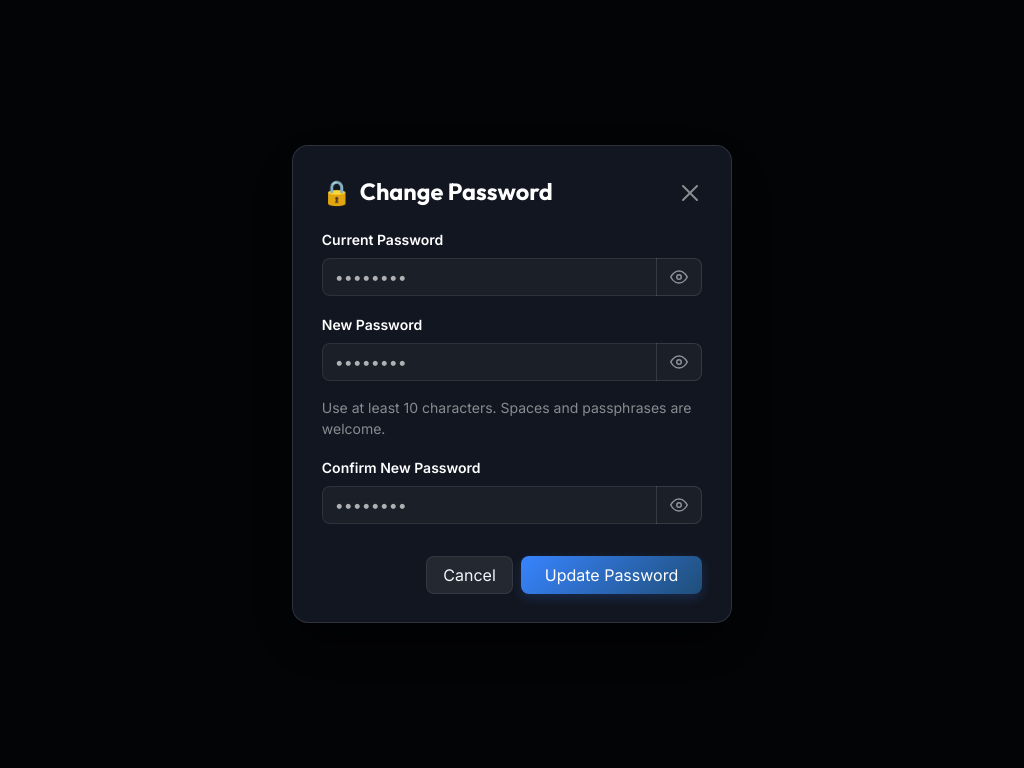
Test case: change-password allows a short current password and displays the server's expected error
This screenshot has width=1024, height=768.
Type "legacy" into the password field labelled "Current Password".
click(489, 276); type("legacy")  # box [322, 258, 657, 296]
Type "123456789" into the password field labelled "New Password".
click(489, 362); type("123456789")  # box [322, 342, 657, 380]
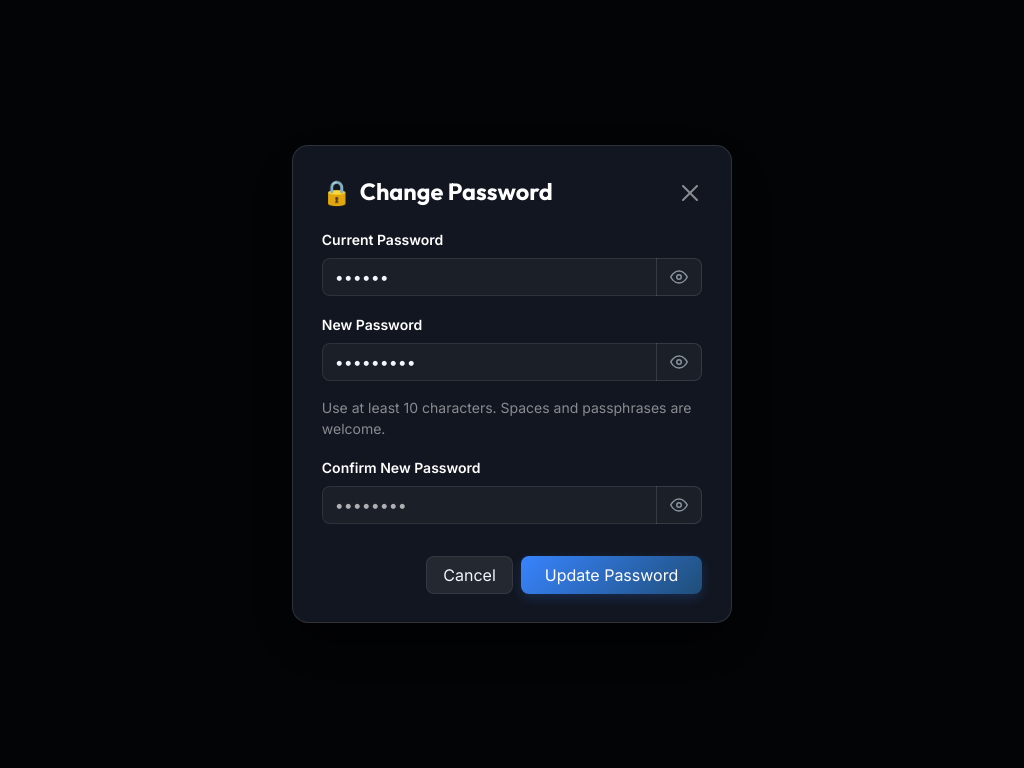
Type "123456789" into the password field labelled "Confirm New Password".
click(489, 504); type("123456789")  # box [322, 486, 657, 524]
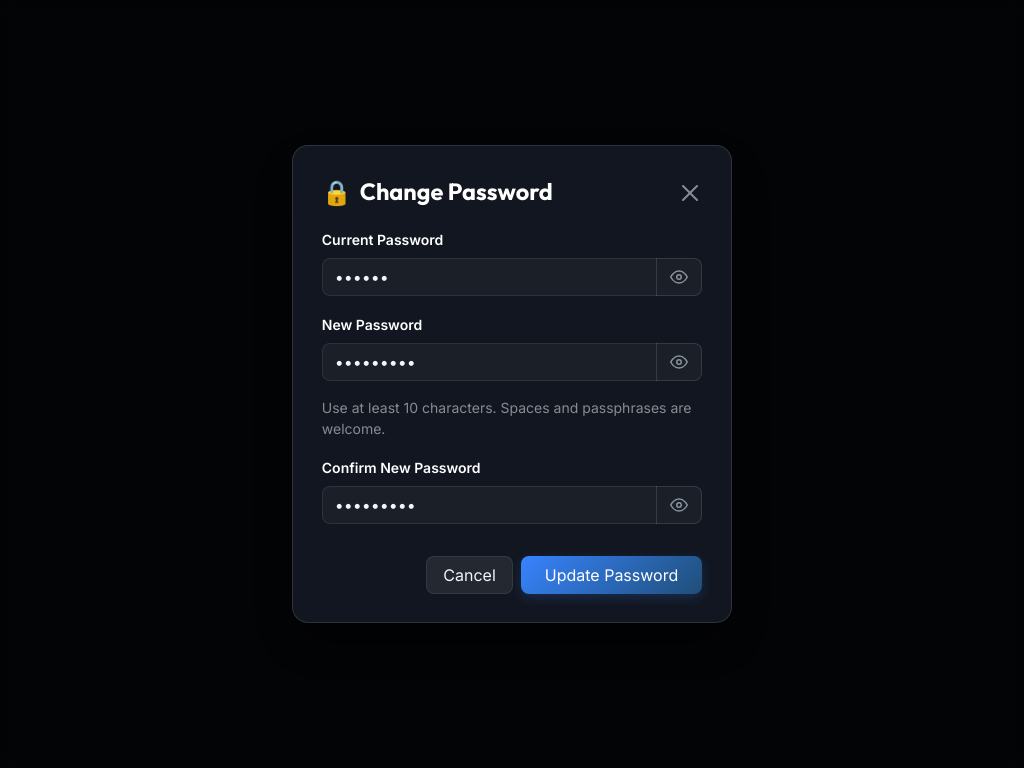
Submit the form named "Update Password", box [322, 226, 702, 594]
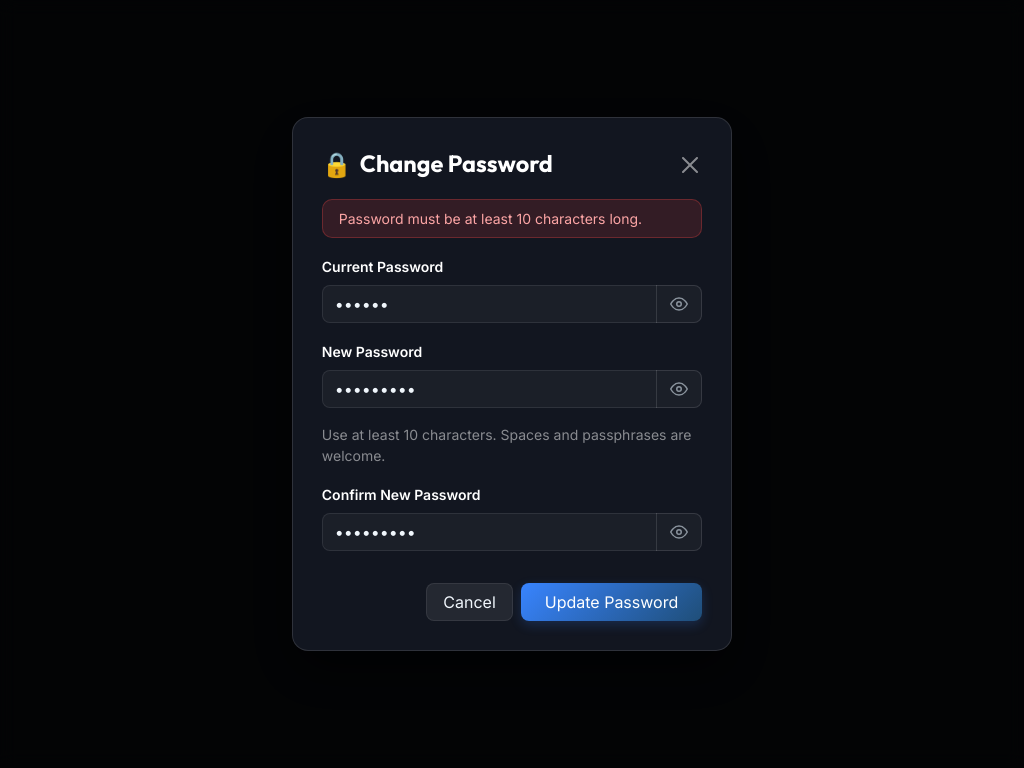
Expected: the text "Password must be at least 10 characters long." is shown, [322, 199, 702, 238]
Type "new-pass10" into the password field labelled "New Password".
click(489, 389); type("new-pass10")  # box [322, 370, 657, 408]
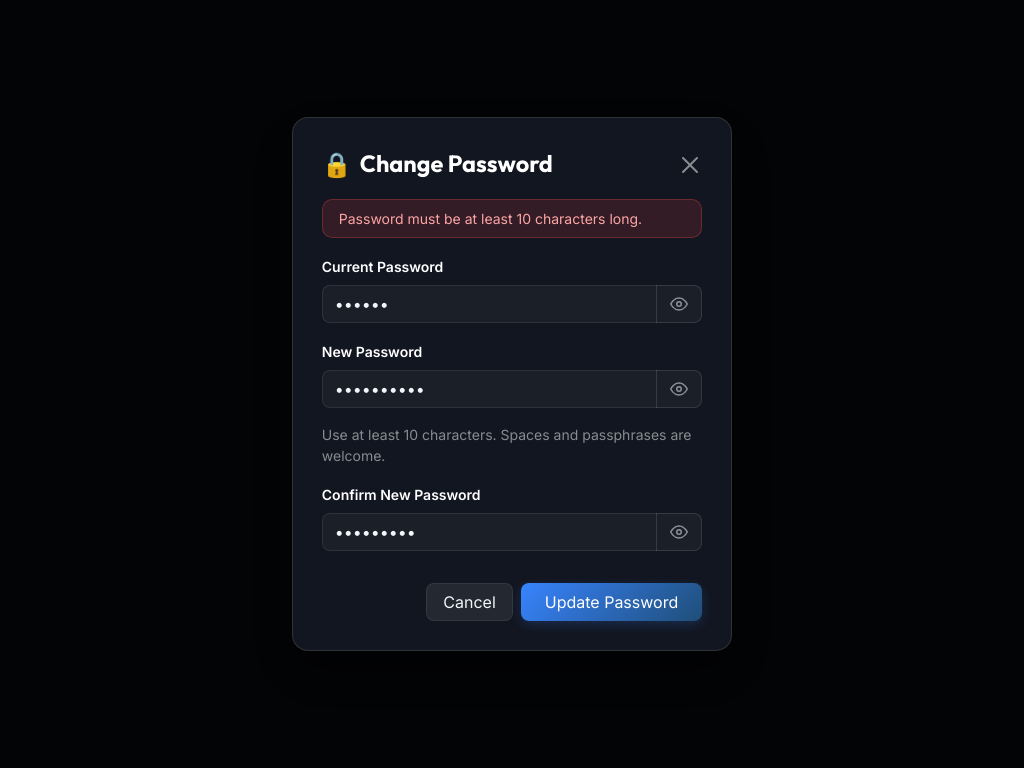
Type "new-pass10" into the password field labelled "Confirm New Password".
click(489, 532); type("new-pass10")  # box [322, 513, 657, 551]
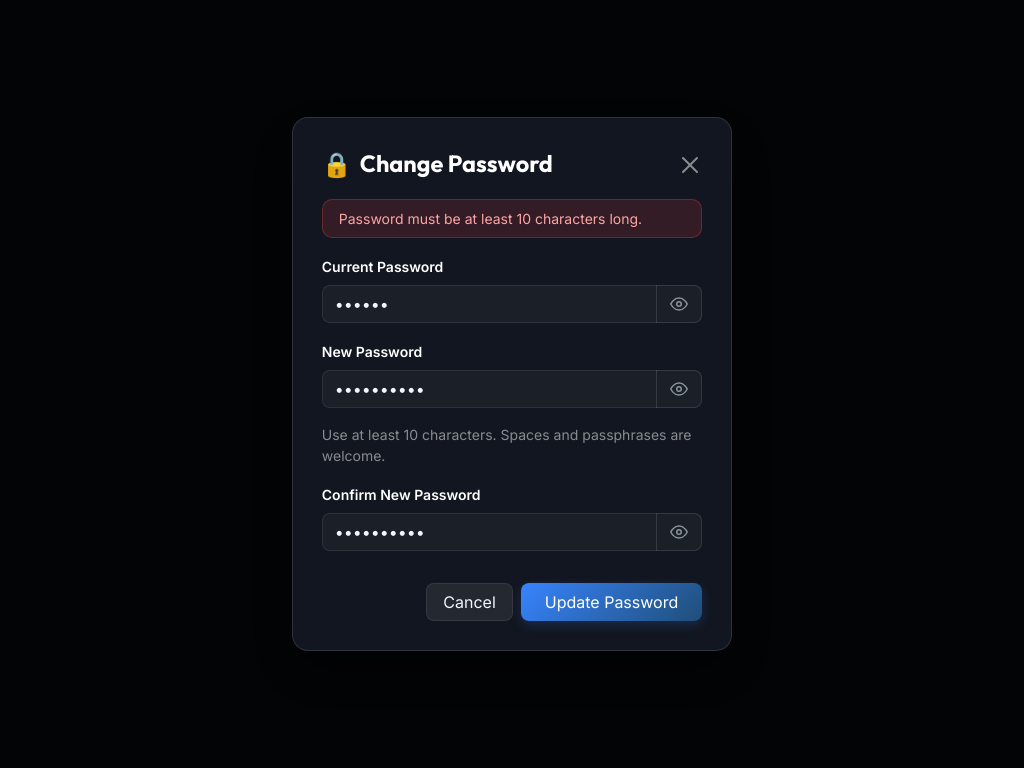
Submit the form named "Update Password", box [322, 254, 702, 621]
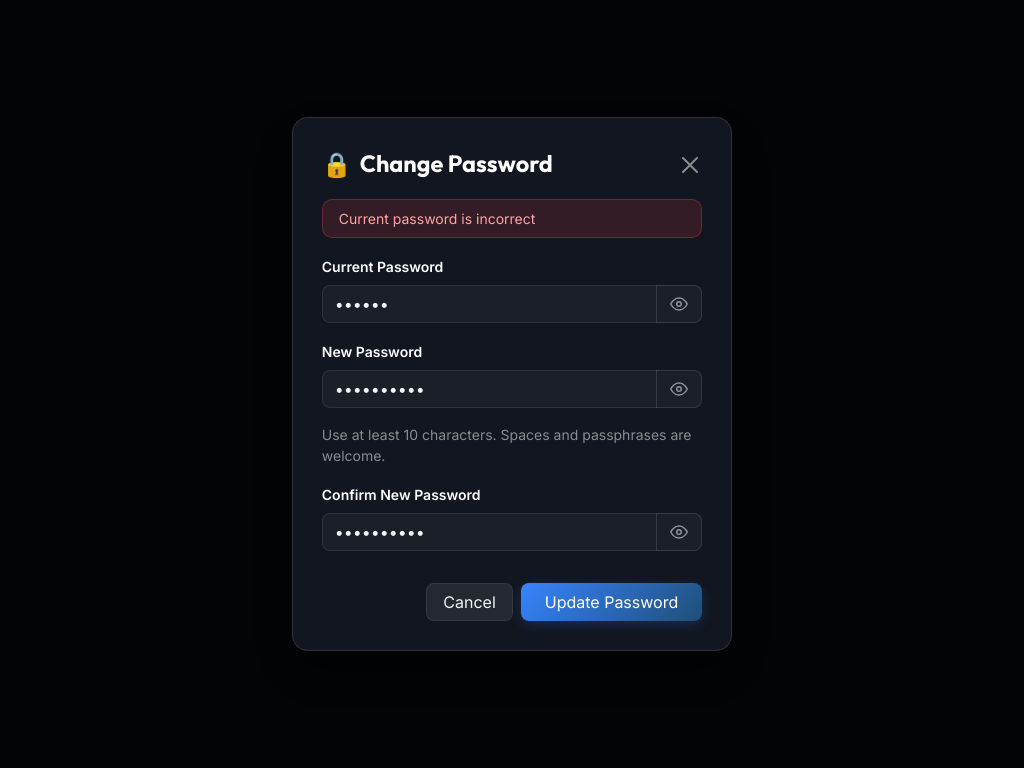
Expected: the text "Current password is incorrect" is shown, [322, 199, 702, 238]
